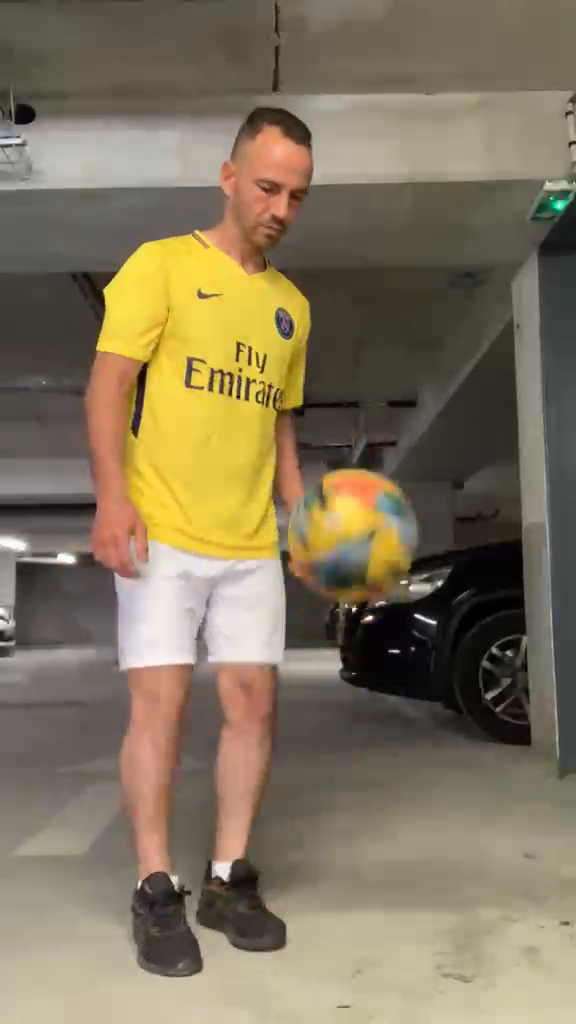ball: (284, 467, 421, 604)
